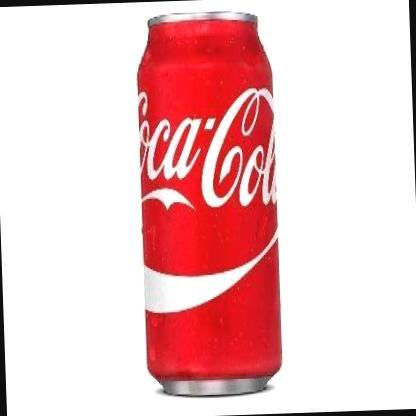alumunium_can: (133, 5, 287, 400)
